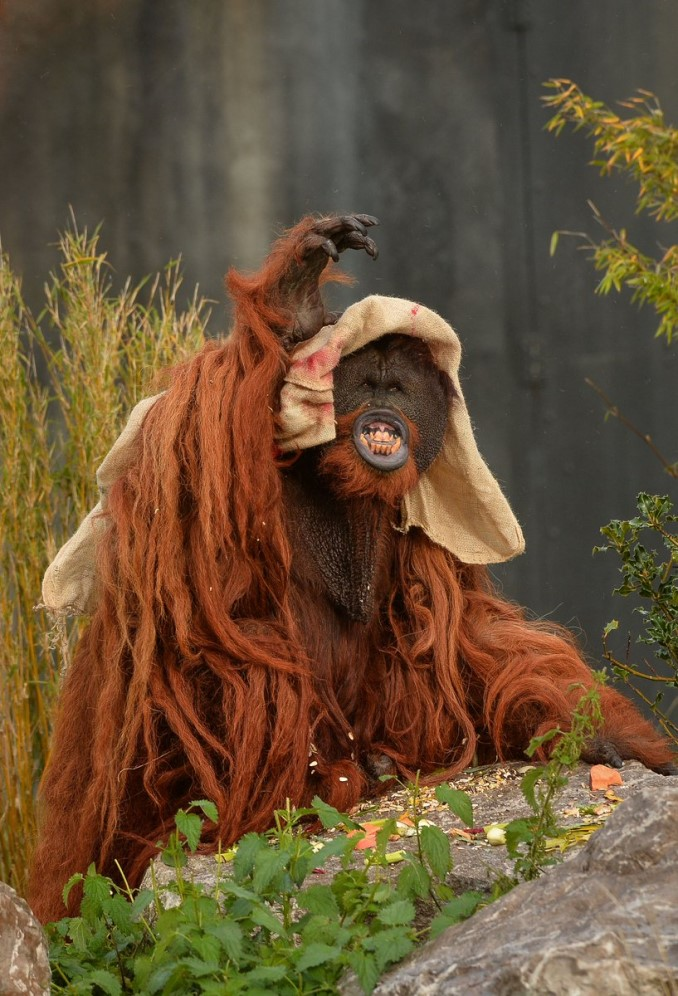Orangutan: (59, 235, 628, 810)
